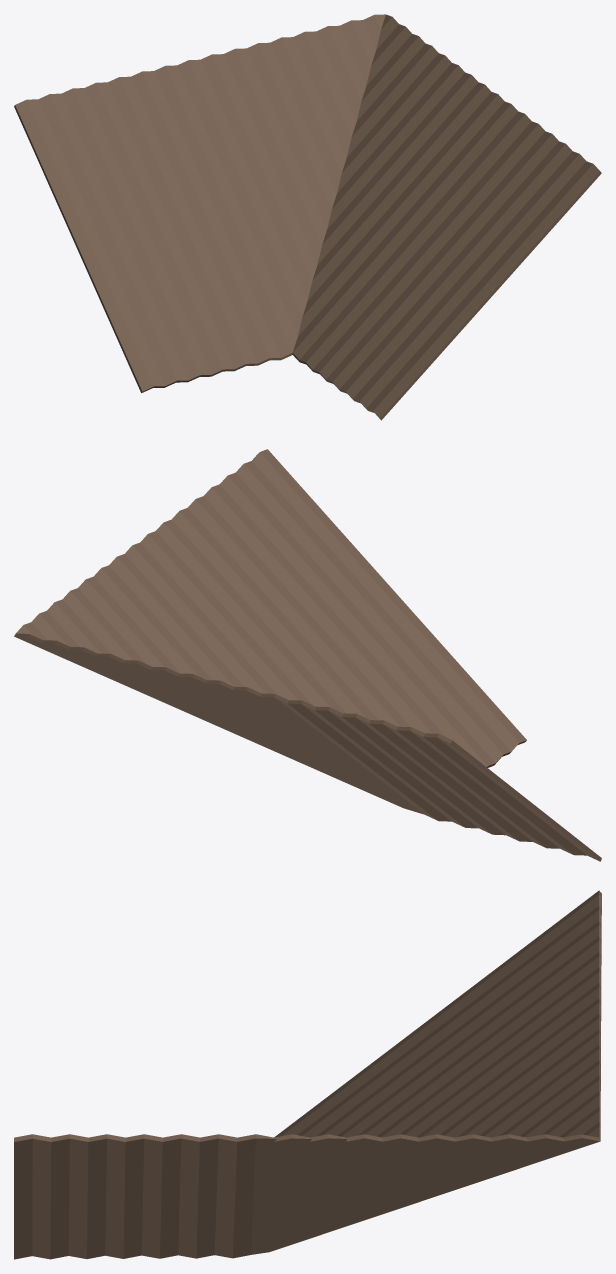
The model's file is Roof_03.fbx.
The picture shows the model from 3 angles, top to bottom: view 1: azimuth 30°, elevation 25°; view 2: azimuth 150°, elevation 25°; view 3: azimuth 270°, elevation 25°; orthographic projection. The views are drawn at different scales.
Parts seen in each view (by area): view 1: Roof_03_LOD0; view 2: Roof_03_LOD0; view 3: Roof_03_LOD0.
Boxes of the visible parts, x1,y1,x2,y2 form: Roof_03_LOD0: [14, 14, 601, 420]; Roof_03_LOD0: [14, 449, 601, 861]; Roof_03_LOD0: [14, 890, 601, 1259].
Size of what is drawn, in the model's own units: 1005 by 511 by 1005.
